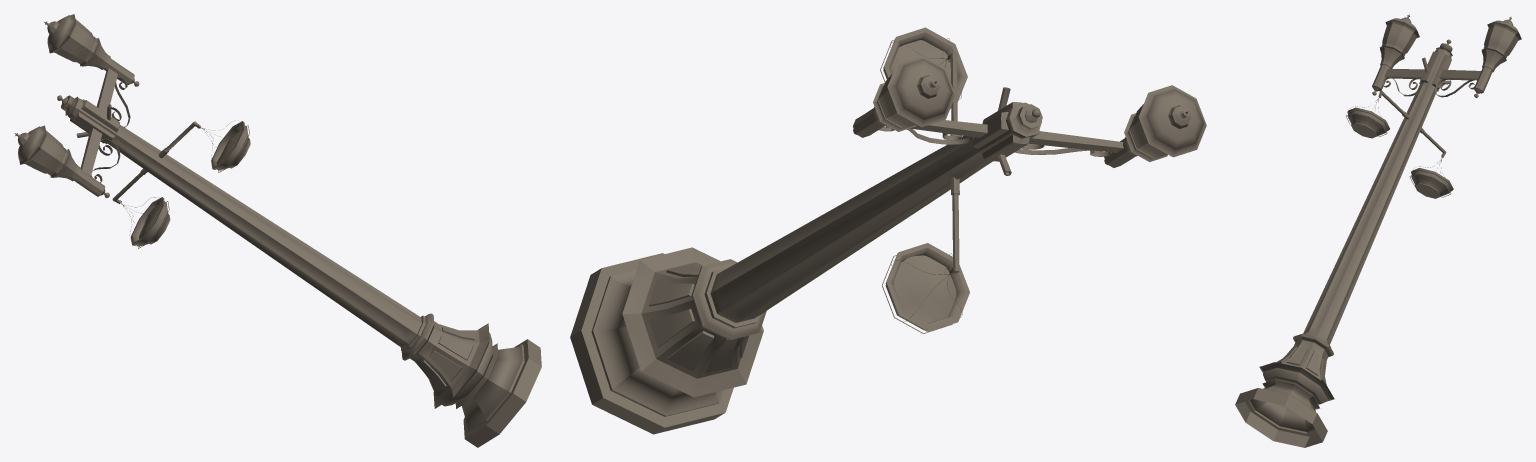
File: lamp.obj
The picture shows the model from 3 angles, left to right: view 1: azimuth 30°, elevation 25°; view 2: azimuth 150°, elevation 25°; view 3: azimuth 270°, elevation 25°; orthographic projection. The views are drawn at different scales.
Parts seen in each view (by area): view 1: Streetlight_LowRes; view 2: Streetlight_LowRes; view 3: Streetlight_LowRes.
Part boxes in pixels (x1,y1,x2,y2): Streetlight_LowRes: (14,14,541,447); Streetlight_LowRes: (570,27,1206,434); Streetlight_LowRes: (1235,14,1521,447).
Bounding box in the file's own units: 3.27 × 2.72 × 2.24.
